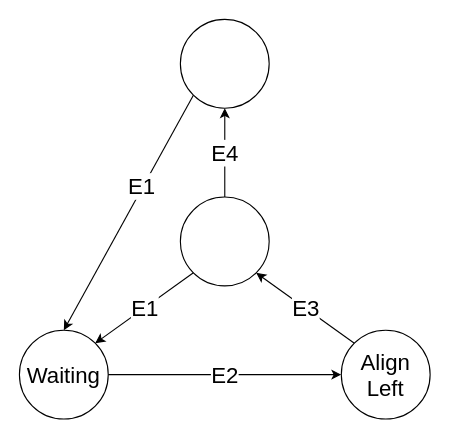
The diagram is 450 pixels wide and 438 high, and some of its shapes have lost their labels. Each missing label, with the box of its shape:
Find Wall: (179, 18, 269, 108)
Follow Wall: (179, 196, 269, 286)
